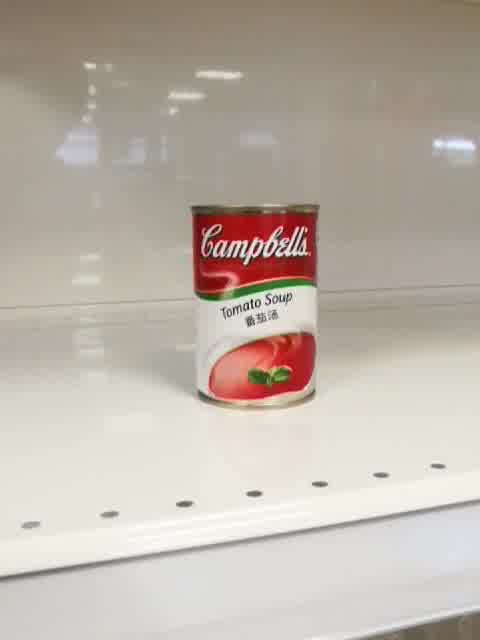tomatosoup: (186, 200, 320, 411)
